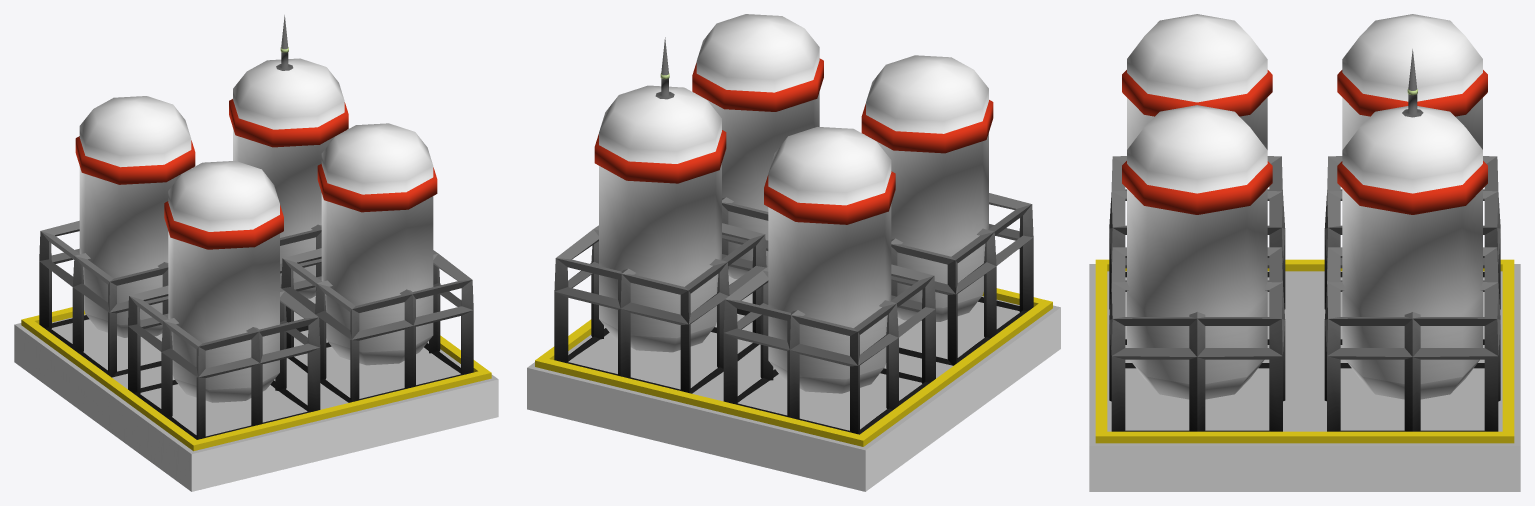
Rendered from Structure_GasTanks.fbx.
3 renders of one model, left to right at view 1: azimuth 30°, elevation 25°; view 2: azimuth 150°, elevation 25°; view 3: azimuth 270°, elevation 25°, orthographic. The views are drawn at different scales.
Visible parts, largest first — view 1: Building_GasTanks; view 2: Building_GasTanks; view 3: Building_GasTanks.
Part boxes in pixels (bbox=[...]): Building_GasTanks: bbox=[14, 15, 498, 491]; Building_GasTanks: bbox=[527, 14, 1060, 491]; Building_GasTanks: bbox=[1089, 14, 1520, 491].
Bounding box in the file's own units: 200 × 203 × 200.
